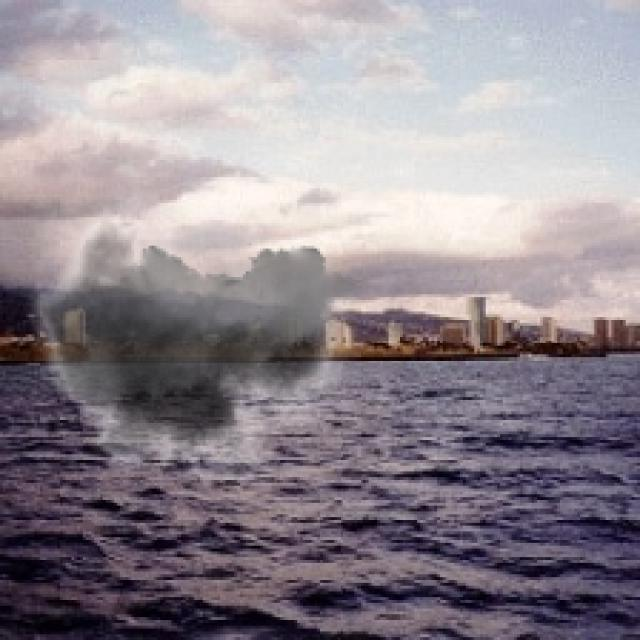Smoke: (11, 151, 360, 506)
